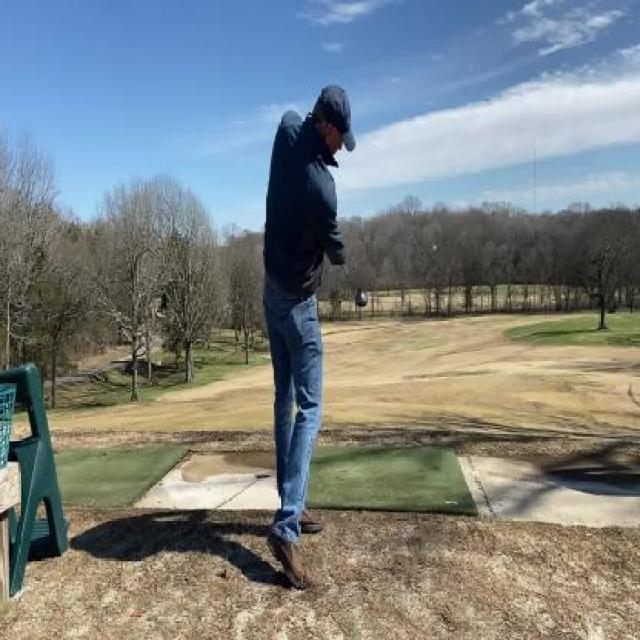club head: (353, 288, 369, 307)
